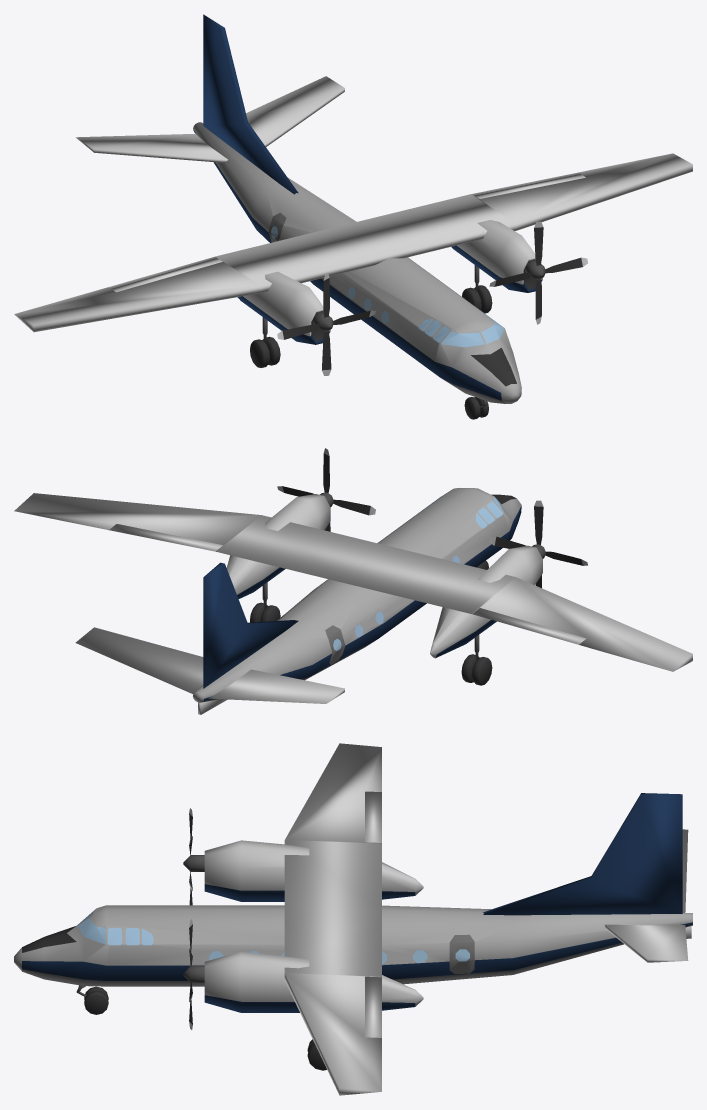
Rendered from turboprop.glb.
3 views of the same model, one above another, from view 1: azimuth 30°, elevation 25°; view 2: azimuth 150°, elevation 25°; view 3: azimuth 270°, elevation 25° (orthographic). The views are drawn at different scales.
Visible parts, largest first — view 1: turboprop; view 2: turboprop; view 3: turboprop.
Part boxes in pixels (<box>): turboprop: <box>14,14,692,419</box>; turboprop: <box>14,448,692,714</box>; turboprop: <box>14,743,692,1095</box>.
Bounding box in the file's own units: 29 × 8.54 × 24.14.
